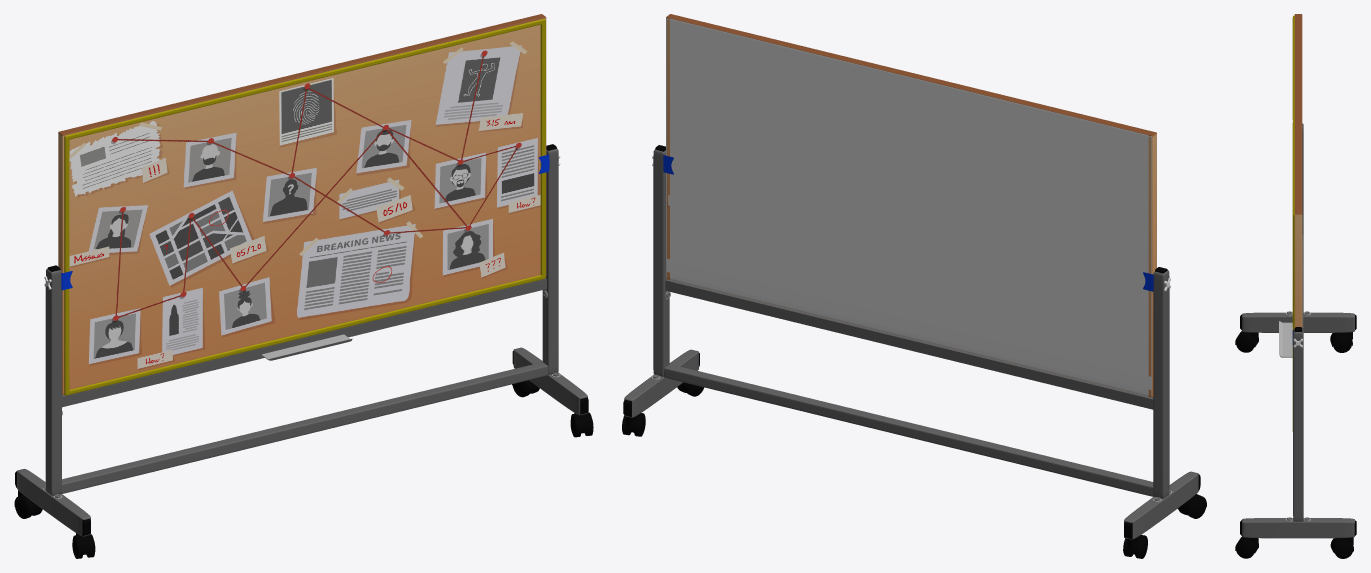
File: WhiteBoard.fbx
3 views of the same model, side by side, from view 1: azimuth 30°, elevation 25°; view 2: azimuth 150°, elevation 25°; view 3: azimuth 270°, elevation 25° (orthographic). The views are drawn at different scales.
Visible parts, largest first — view 1: Cube.003, Plane, Cube.002, Cube.001, Cube.004, Cube, Cube.005; view 2: Cube.003, Cube.002, Cube.001, Cube.004, Cube; view 3: Cube, Cube.003, Cube.001, Plane, Cube.005, Wheels.004, Wheels.001, Wheels.002, Wheels.003, Cube.004.
Part boxes in pixels (<box>): Cube.003: <box>58,14,546,395</box>; Plane: <box>64,18,545,395</box>; Cube.002: <box>61,362,548,493</box>; Cube.001: <box>45,148,558,495</box>; Cube.004: <box>62,278,546,407</box>; Cube: <box>17,347,587,536</box>; Cube.005: <box>261,334,352,360</box>; Cube.003: <box>666,14,1156,397</box>; Cube.002: <box>664,364,1154,496</box>; Cube.001: <box>653,149,1169,498</box>; Cube.004: <box>665,279,1153,409</box>; Cube: <box>624,349,1198,539</box>; Cube: <box>1242,312,1354,538</box>; Cube.003: <box>1294,14,1302,327</box>; Cube.001: <box>1293,123,1303,521</box>; Plane: <box>1292,15,1294,431</box>; Cube.005: <box>1279,321,1292,357</box>; Wheels.004: <box>1330,537,1353,558</box>; Wheels.001: <box>1330,332,1352,352</box>; Wheels.002: <box>1235,537,1258,558</box>; Wheels.003: <box>1235,331,1258,352</box>; Cube.004: <box>1302,235,1303,328</box>.
Bounding box in the file's own units: 165 × 122 × 39.65.
14 materials, 1 textured.
